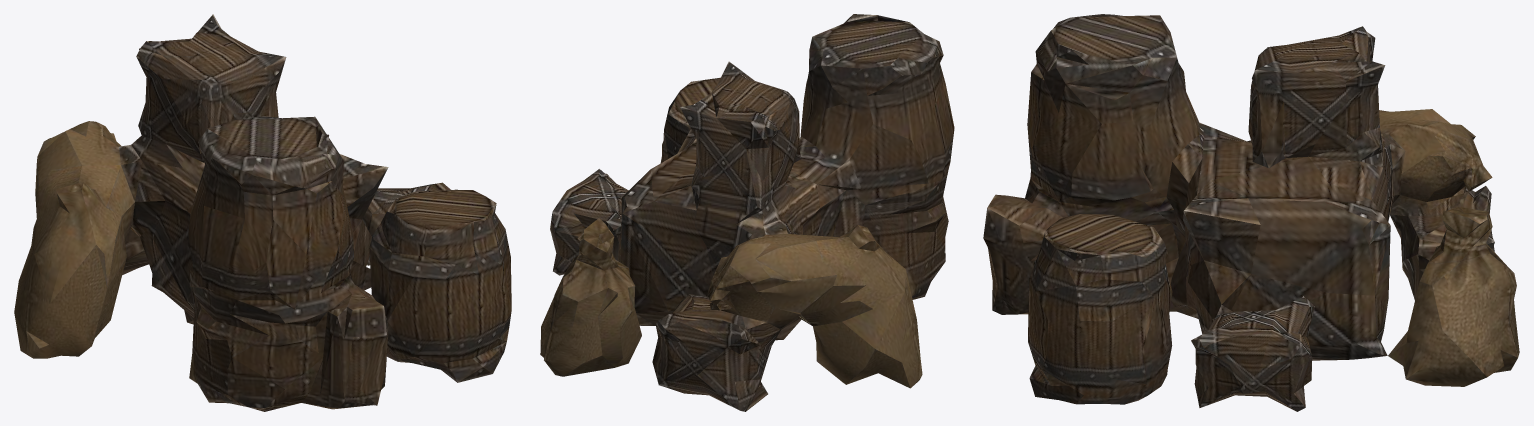
The model's file is war_supplies.glb.
3 views of the same model, side by side, from view 1: azimuth 30°, elevation 25°; view 2: azimuth 150°, elevation 25°; view 3: azimuth 270°, elevation 25° (orthographic). The views are drawn at different scales.
Parts seen in each view (by area): view 1: output_unwrapped; view 2: output_unwrapped; view 3: output_unwrapped.
Part boxes in pixels (<box>): output_unwrapped: <box>14,14,511,411</box>; output_unwrapped: <box>540,14,954,411</box>; output_unwrapped: <box>983,14,1519,411</box>.
Size of the model in its own units: 1.65 by 1.04 by 1.83.
Materials: 1 (1 with a texture image).
